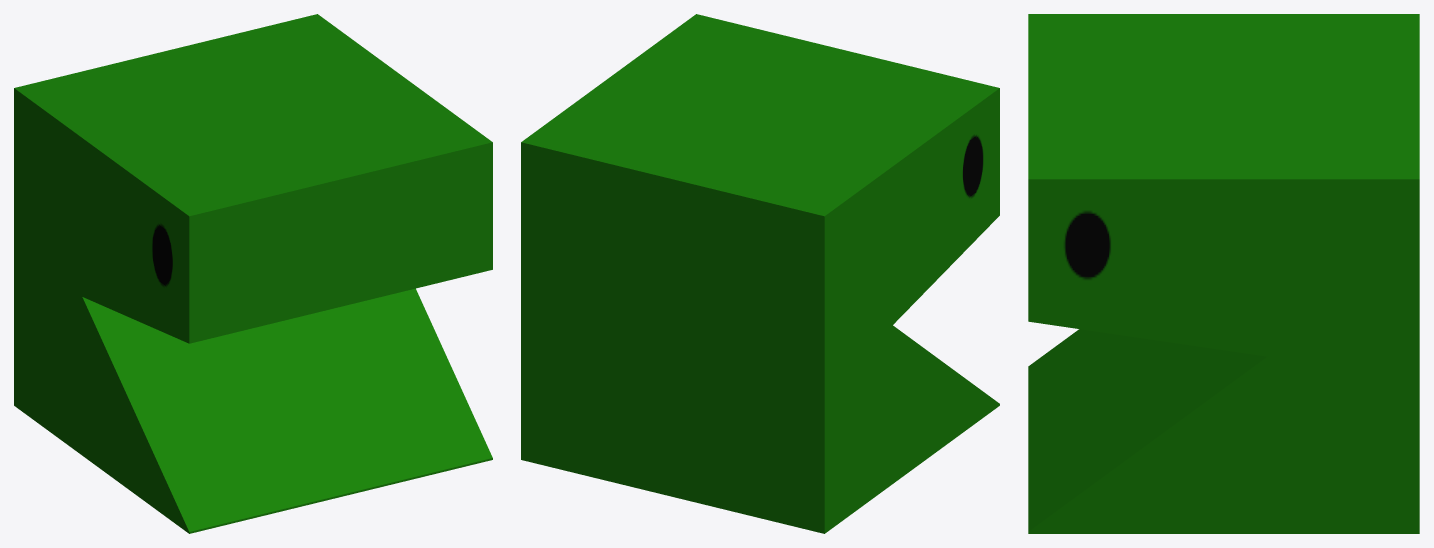
The model's file is enemy.obj.
3 views of the same model, side by side, from view 1: azimuth 30°, elevation 25°; view 2: azimuth 150°, elevation 25°; view 3: azimuth 270°, elevation 25° (orthographic). The views are drawn at different scales.
Parts seen in each view (by area): view 1: 立方体; view 2: 立方体; view 3: 立方体.
Part boxes in pixels (x1=…): 立方体: x1=14, y1=14, x2=492, y2=533; 立方体: x1=521, y1=14, x2=999, y2=533; 立方体: x1=1028, y1=14, x2=1419, y2=533.
Bounding box in the file's own units: 2 × 2 × 2.
